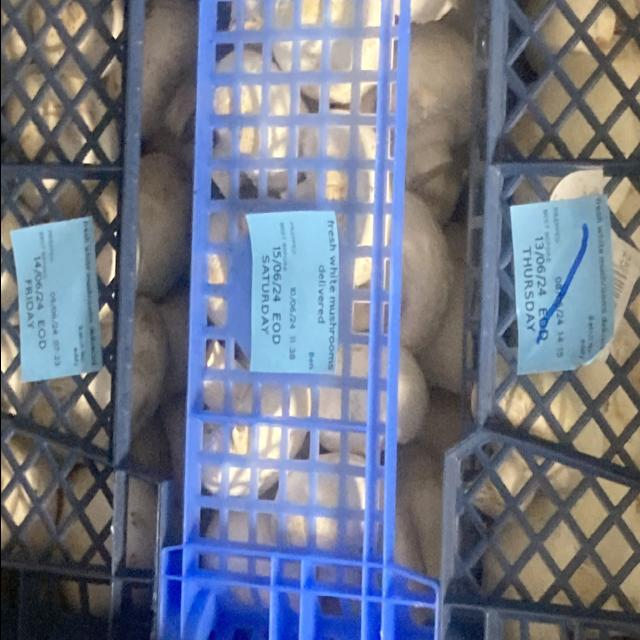product-labels: (509, 194, 613, 376), (243, 211, 340, 375), (8, 217, 101, 383)
